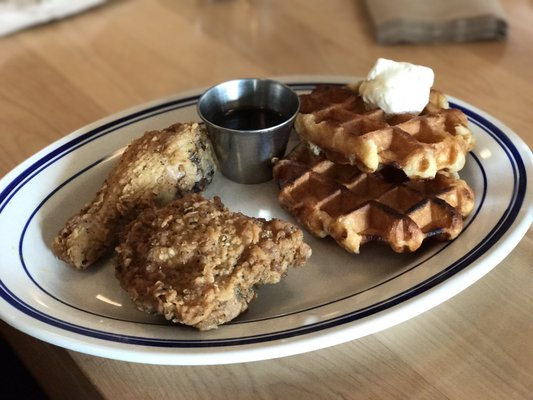pizza: (197, 78, 300, 185)
sushi: (197, 78, 300, 185)
